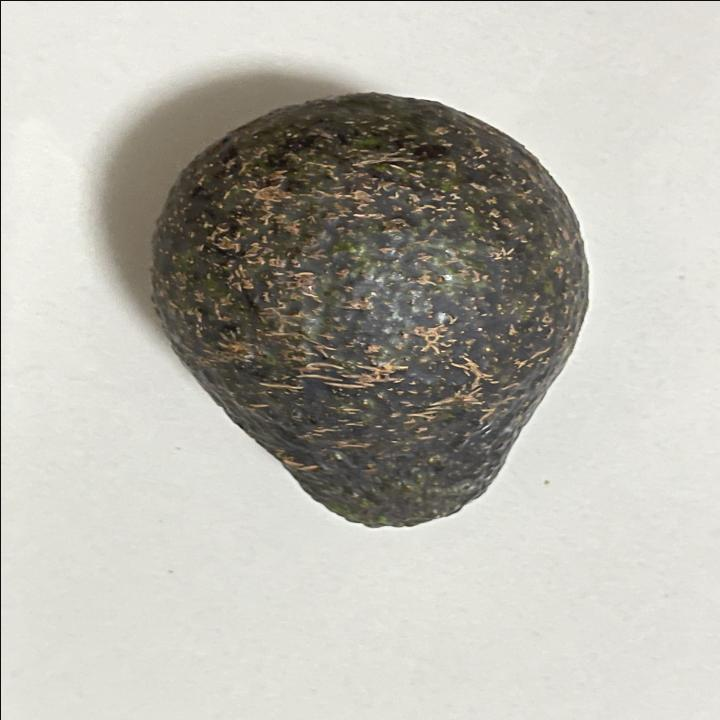Level1: (131, 75, 619, 547)
